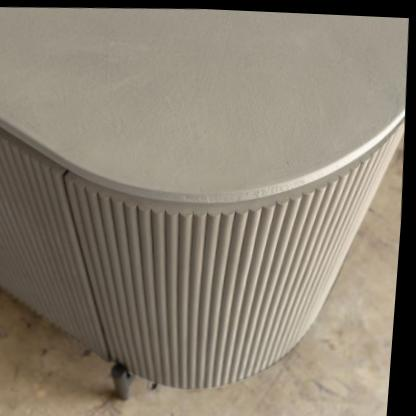Sideboard: (0, 7, 409, 401)
